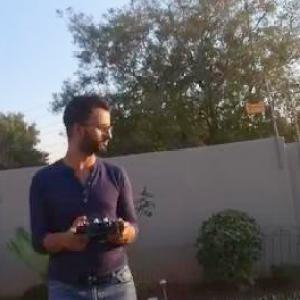follow: (17, 86, 142, 299)
